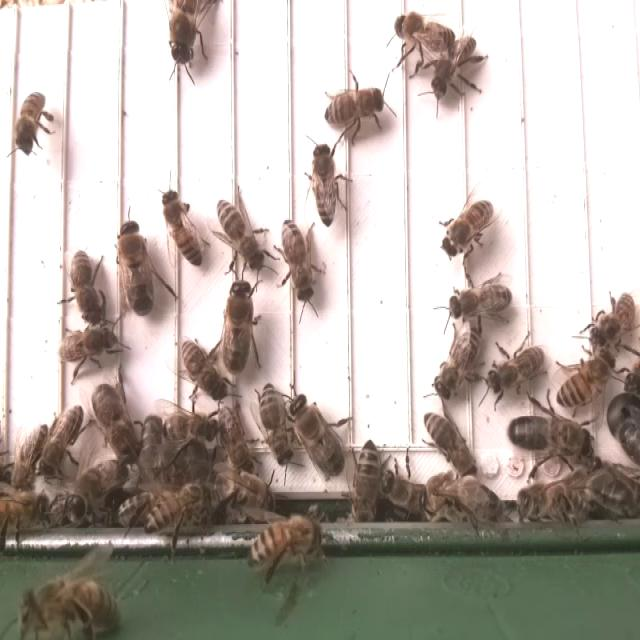Drone: (286, 390, 346, 480), (507, 410, 598, 466), (90, 380, 145, 471), (115, 218, 158, 320), (218, 275, 258, 379)
Worker: (215, 197, 266, 275), (162, 186, 206, 272), (421, 408, 474, 478), (434, 325, 482, 401), (37, 402, 84, 479), (440, 197, 495, 262), (430, 36, 486, 99), (559, 351, 617, 410), (280, 214, 316, 305), (446, 277, 516, 323), (216, 400, 258, 476), (66, 247, 105, 328), (487, 345, 547, 396), (258, 379, 294, 463), (179, 340, 228, 401), (589, 287, 636, 348), (391, 10, 456, 54), (350, 436, 382, 523), (309, 138, 339, 229), (322, 86, 385, 129), (56, 325, 119, 367), (160, 408, 220, 447), (17, 84, 48, 149)
